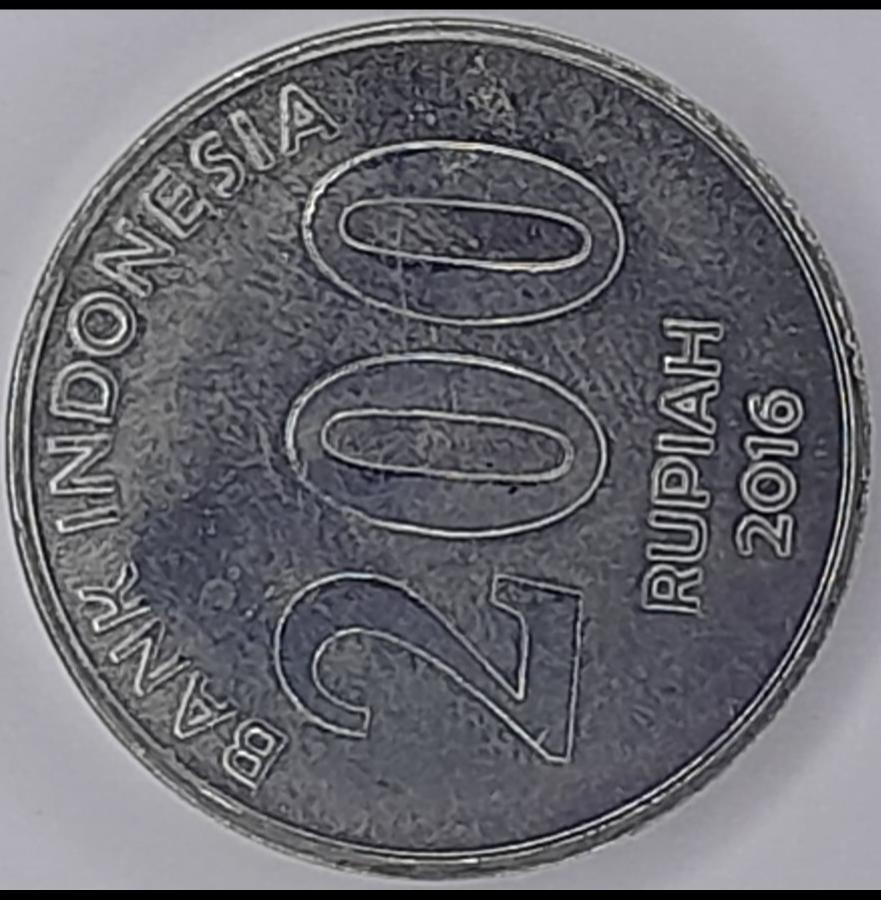coin_200_e2016: (0, 16, 881, 900)
